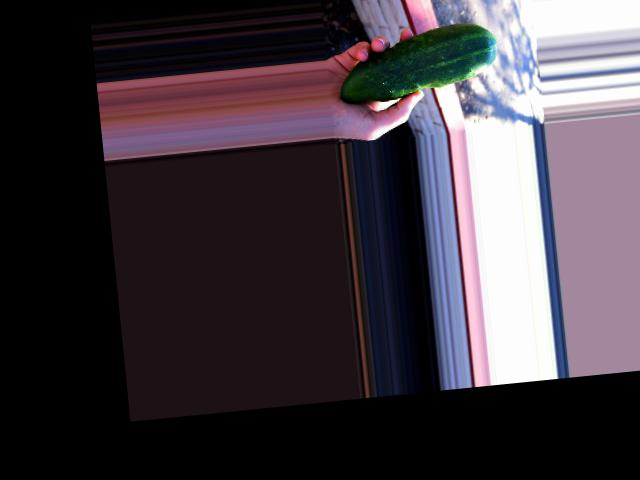cucumber: (335, 19, 500, 104)
